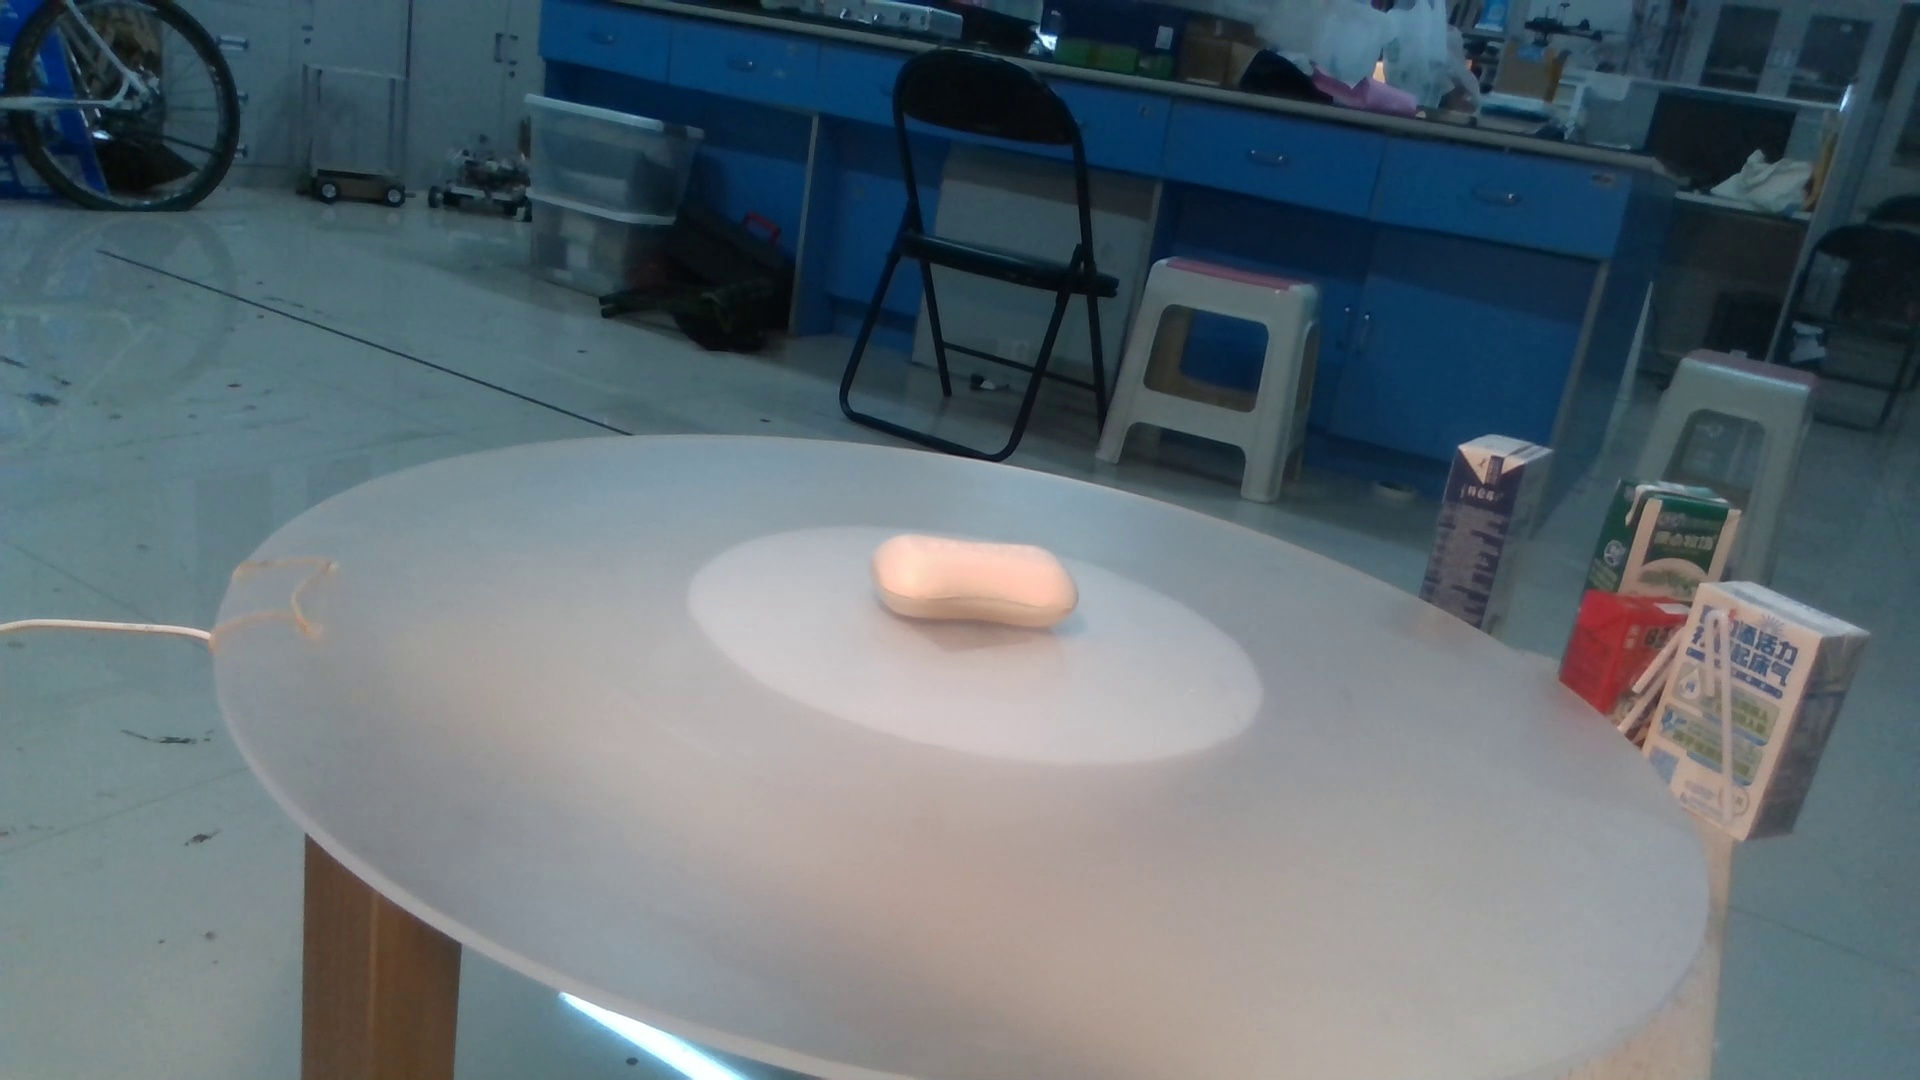CA003_1: (852, 502, 1112, 662)
